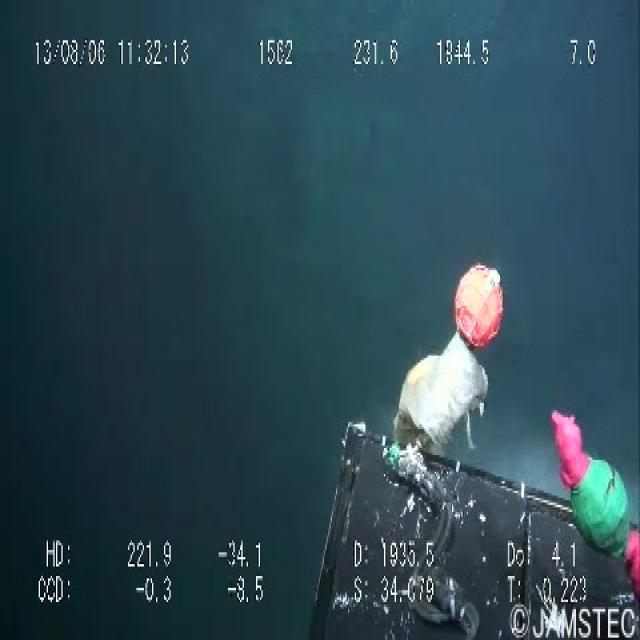plastic: (388, 329, 497, 460)
